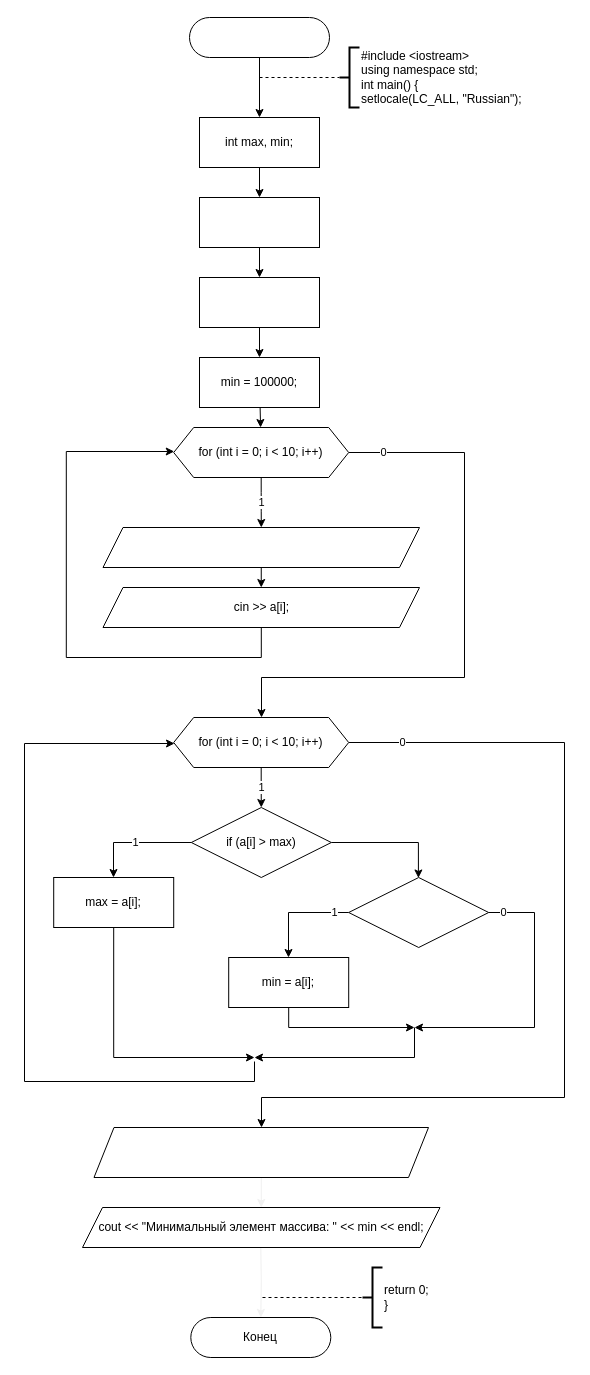
Image size: 590x1375. Some labels were removed from this diagram. The shapes that lost their labels are listed below. From the top down, each one's box as (x1, y1, x2, y2) in pixels, then its label:
(188, 16, 330, 58): Запуск
(198, 196, 320, 248): int a[10];
(198, 276, 320, 328): max = -999;
(102, 526, 420, 568): cout << "Введите элемент массива: ";
(348, 876, 489, 948): if (a[i] < min)
(93, 1126, 428, 1178): cout << "Максимальный элемент массива: " << max << endl;
